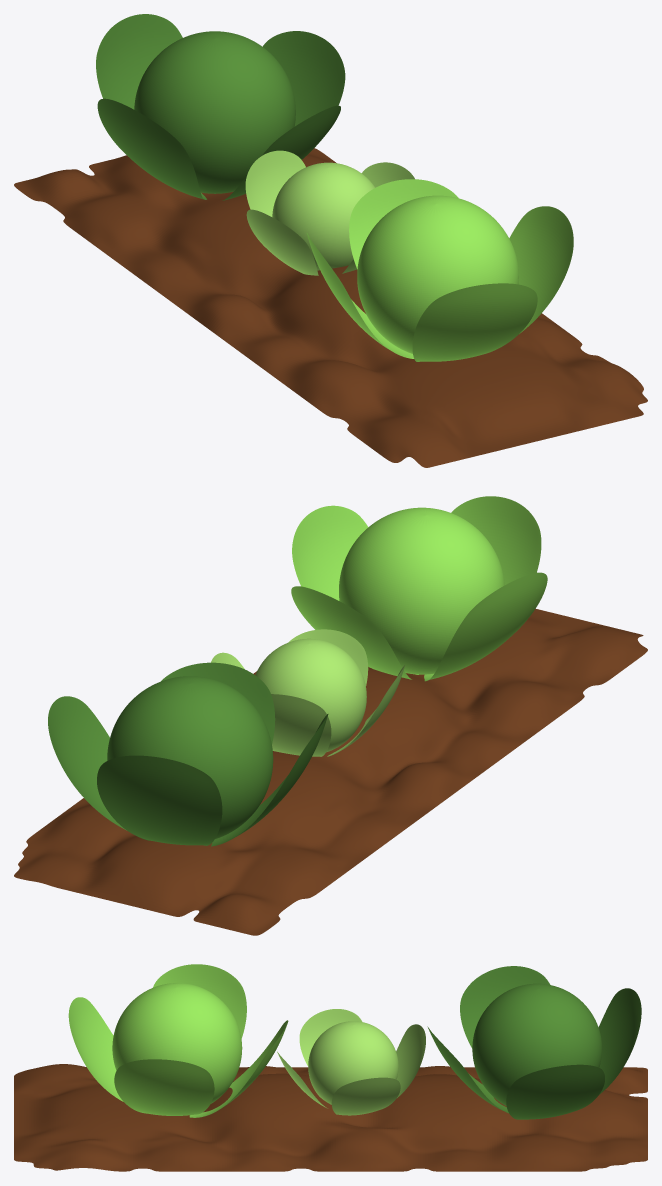
File: VeggieBarrier 1.fbx
The picture shows the model from 3 angles, top to bottom: view 1: azimuth 30°, elevation 25°; view 2: azimuth 150°, elevation 25°; view 3: azimuth 270°, elevation 25°; orthographic projection. The views are drawn at different scales.
Parts seen in each view (by area): view 1: Plane.001; view 2: Plane.001; view 3: Plane.001.
Boxes of the visible parts, x1,y1,x2,y2 form: Plane.001: (14,14,647,467); Plane.001: (14,496,647,935); Plane.001: (14,964,647,1171).
Size of the model in its own units: 77.86 by 45.62 by 200.
